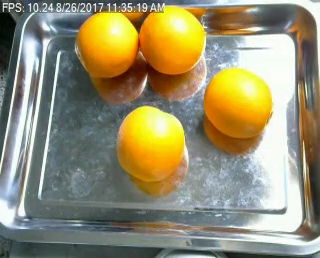Orange: (115, 105, 185, 181), (203, 66, 273, 138), (137, 5, 204, 74), (74, 9, 140, 76)
